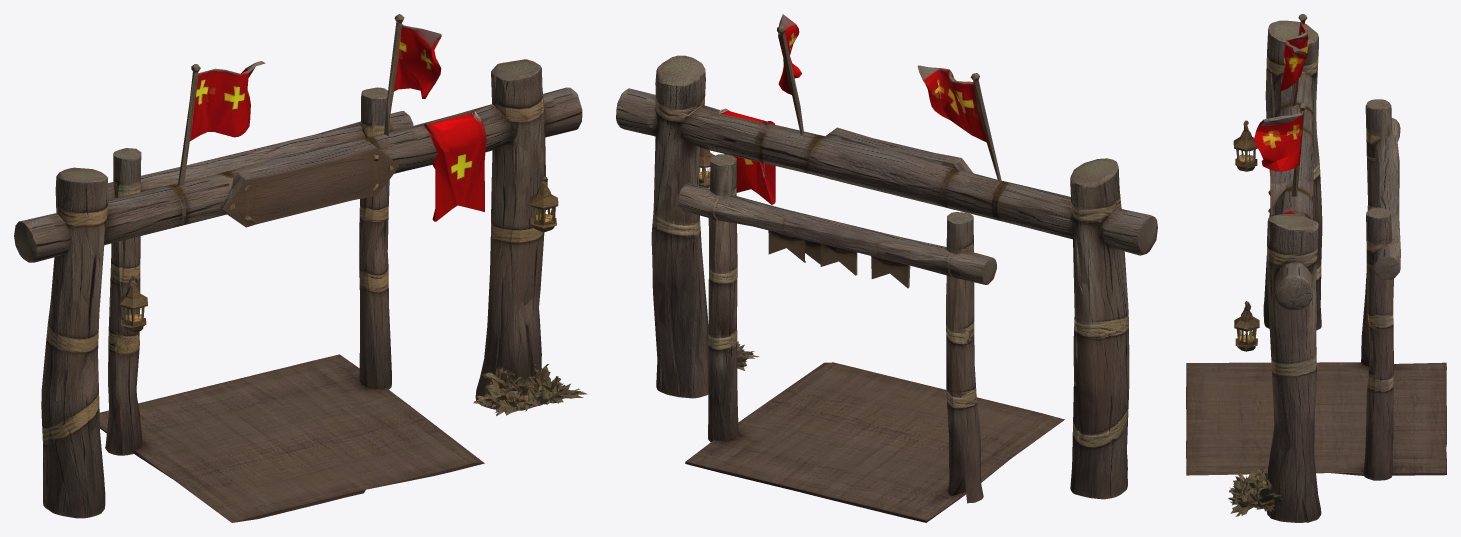
The model's file is start-line.glb.
3 views of the same model, side by side, from view 1: azimuth 30°, elevation 25°; view 2: azimuth 150°, elevation 25°; view 3: azimuth 270°, elevation 25° (orthographic). The views are drawn at different scales.
Size of the model in its own units: 1.9 by 1.33 by 0.866.
Materials: 1 (1 with a texture image).
